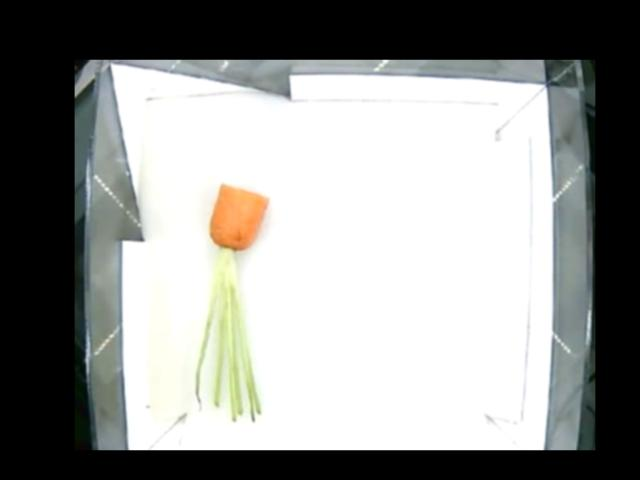Carrot: (206, 181, 269, 298)
